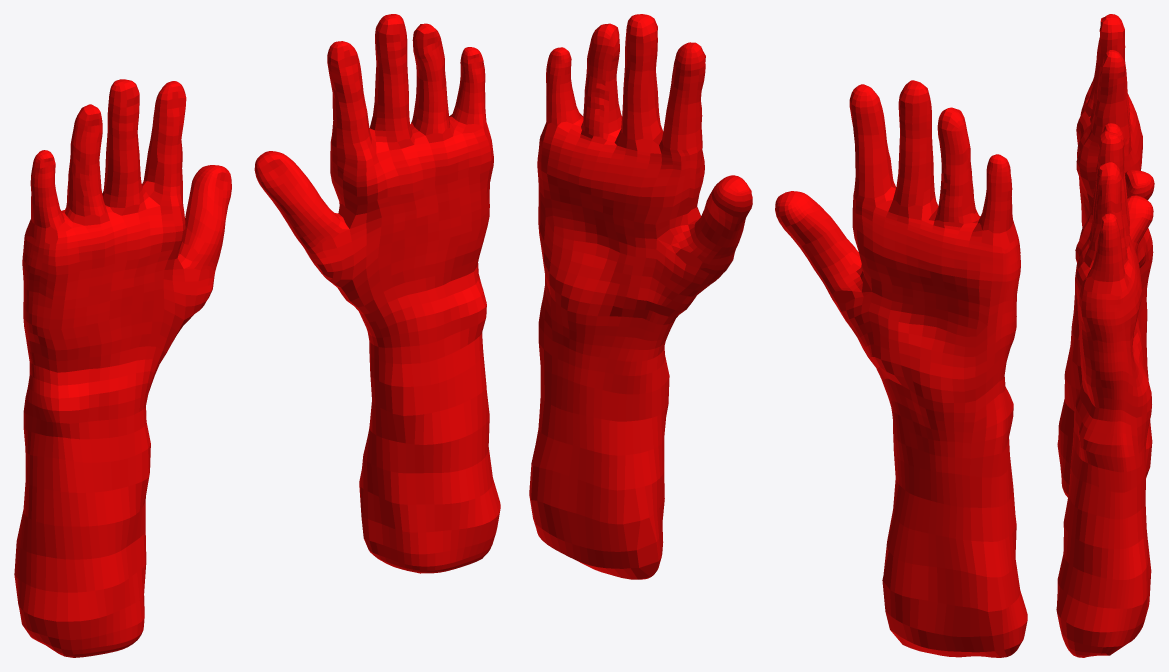
Rendered from HandSculptv2.fbx.
The picture shows the model from 3 angles, left to right: view 1: azimuth 30°, elevation 25°; view 2: azimuth 150°, elevation 25°; view 3: azimuth 270°, elevation 25°; orthographic projection. The views are drawn at different scales.
Visible parts, largest first — view 1: LeftHand, RightHand; view 2: LeftHand, RightHand; view 3: RightHand, LeftHand.
Boxes of the visible parts, x1,y1,x2,y2 form: LeftHand: (14, 79, 231, 657); RightHand: (254, 14, 500, 573); LeftHand: (775, 80, 1027, 657); RightHand: (529, 14, 752, 579); RightHand: (1056, 123, 1153, 657); LeftHand: (1057, 14, 1154, 497).
Size of the model in its own units: 2635 by 2929 by 527.
